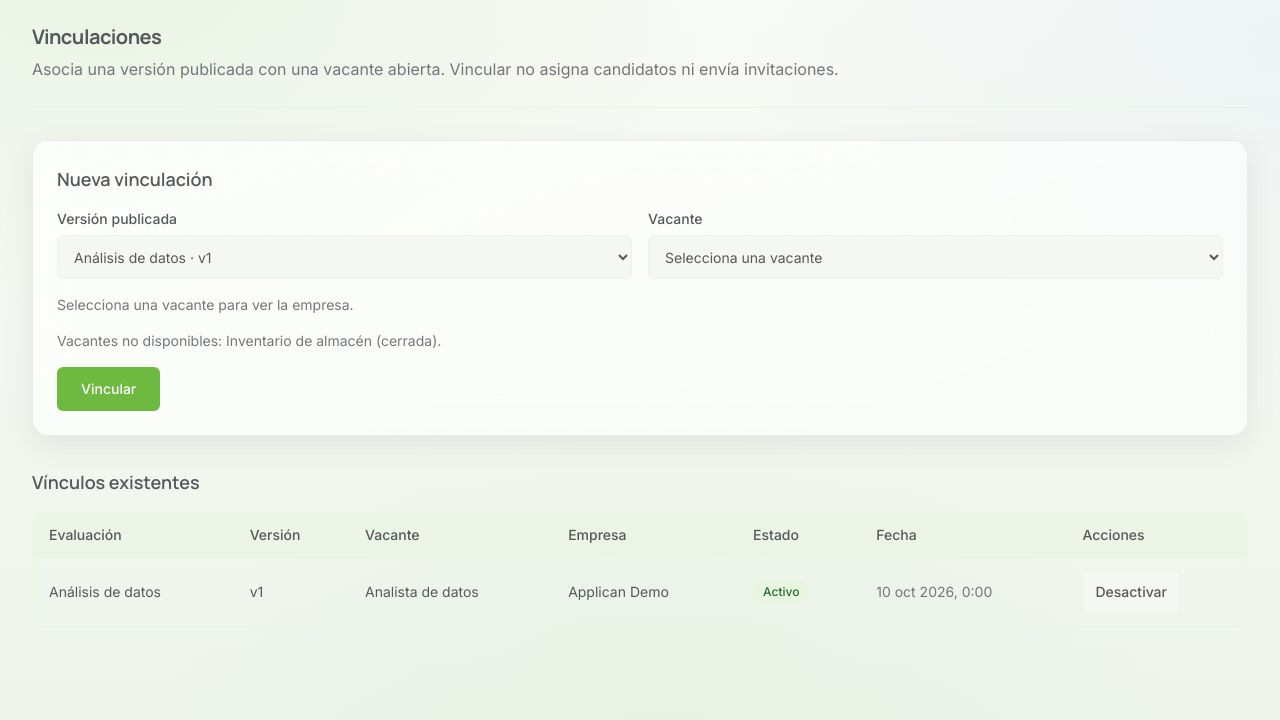
Test: PruebasLinksScreen UI › preselects version from query and shows duplicate_link
expect the dropdown with test id "links-version-select" shows "Análisis de datos · v1": met, box [57, 235, 632, 279]
Select "Analista de datos" in the dropdown with test id "links-vacancy-select". click: (936, 257)
box: [648, 235, 1223, 279]
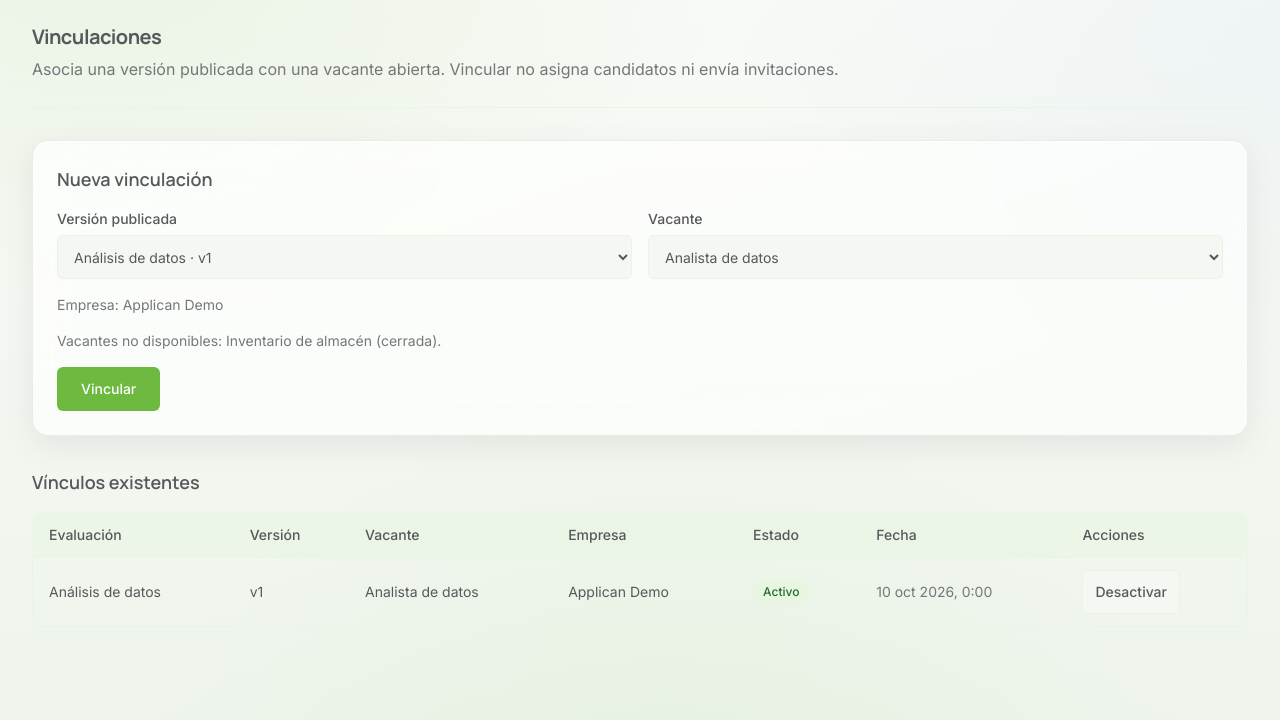
Click the button with test id "links-submit". click: (109, 389)
box: [57, 367, 160, 411]
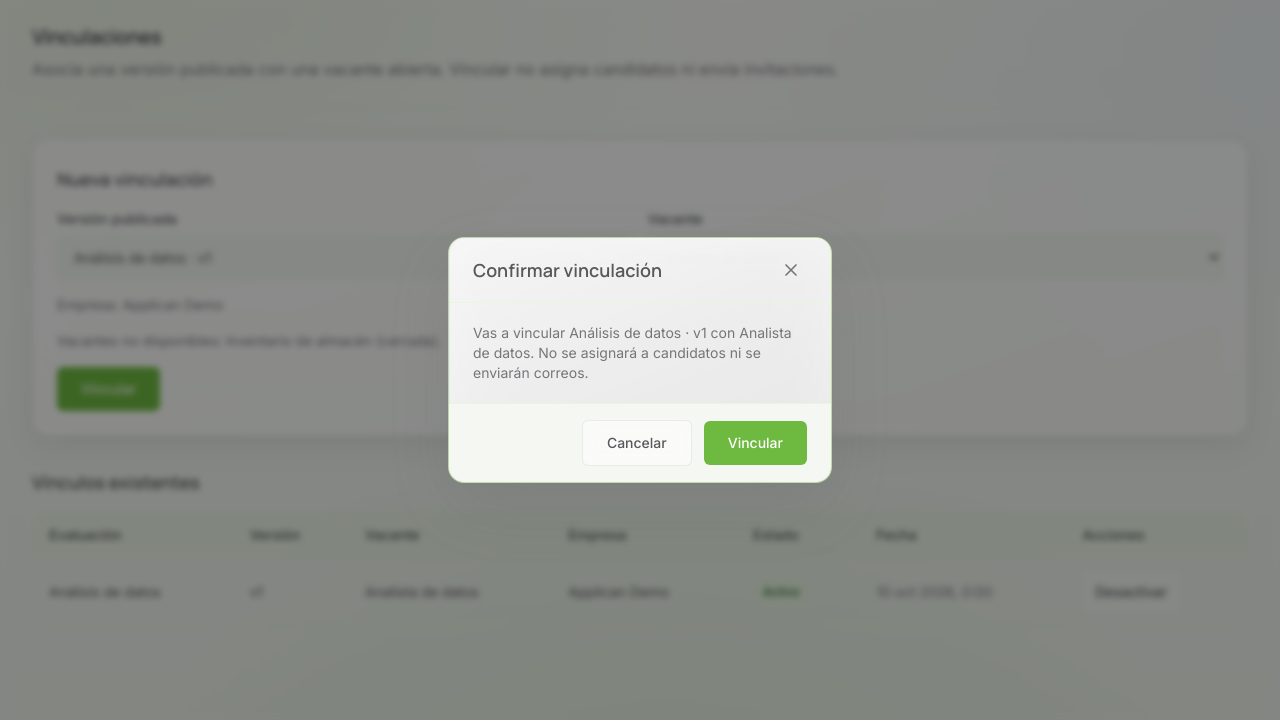
Click the button "Vincular". click: (755, 443)
box: [704, 421, 807, 465]
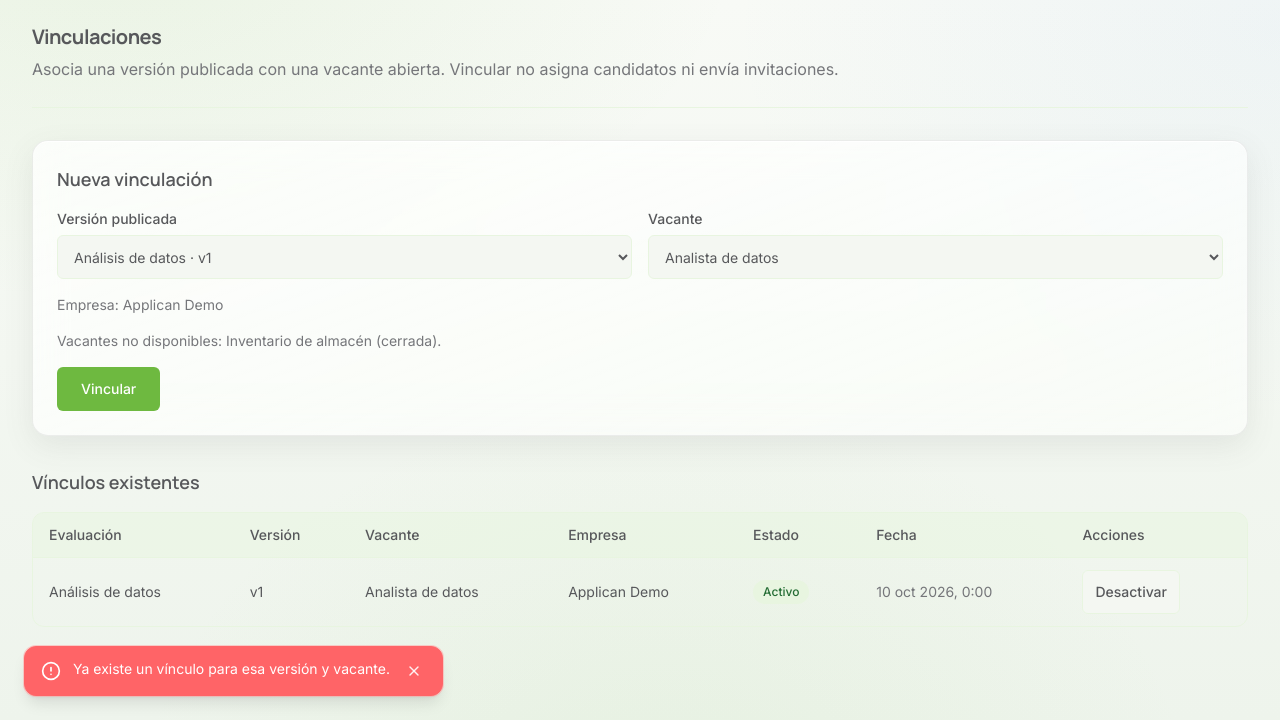
expect the text "Ya existe un vínculo para esa versión y vacante." is shown: met, box [73, 659, 390, 678]
